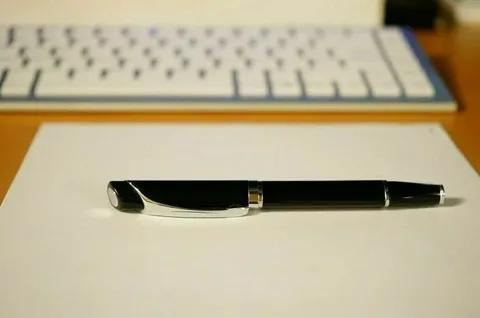pen-pencil: (108, 180, 444, 217)
